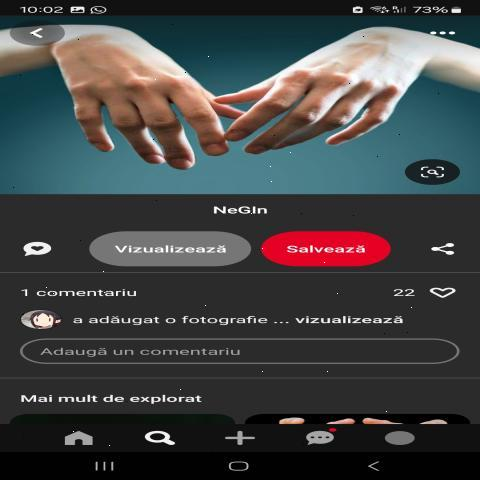Hands: (222, 16, 440, 182), (29, 22, 240, 192)
